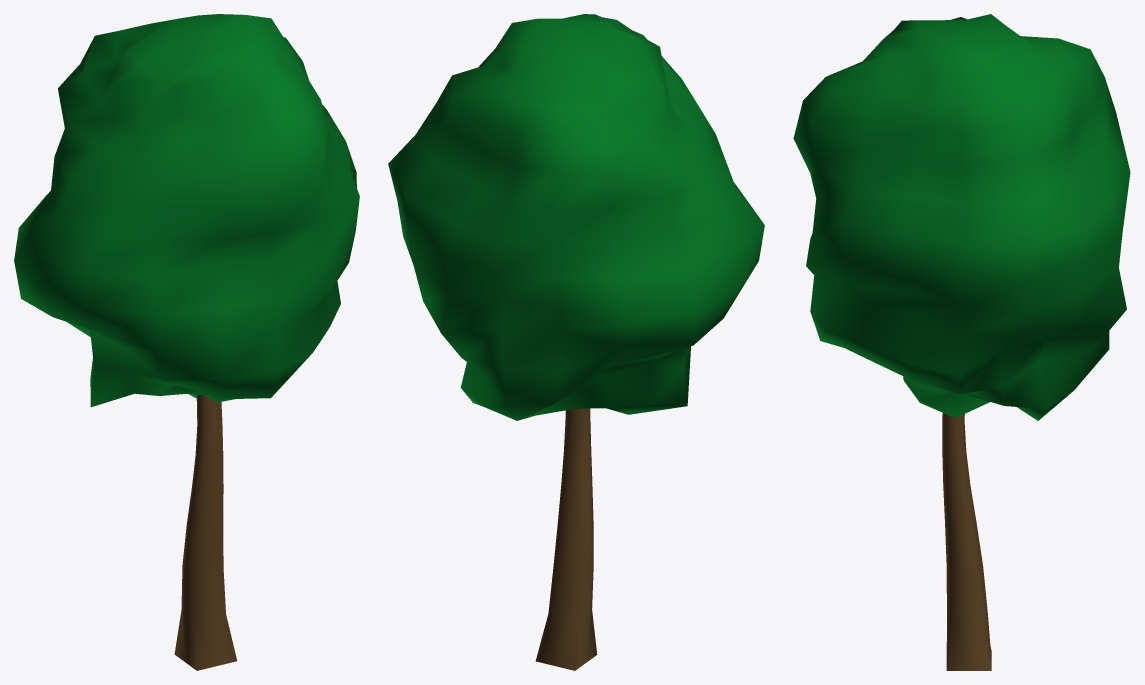
File: Tree 2.fbx
The picture shows the model from 3 angles, left to right: view 1: azimuth 30°, elevation 25°; view 2: azimuth 150°, elevation 25°; view 3: azimuth 270°, elevation 25°; orthographic projection.
Parts seen in each view (by area): view 1: pCube2, pCube1; view 2: pCube2, pCube1; view 3: pCube2, pCube1.
Boxes of the visible parts, <box> form: pCube2: <box>14,14,359,407</box>; pCube1: <box>174,394,237,670</box>; pCube2: <box>388,14,764,420</box>; pCube1: <box>535,408,597,670</box>; pCube2: <box>793,14,1130,420</box>; pCube1: <box>942,413,991,670</box>.
Bounding box in the file's own units: 8.03 × 15.16 × 7.28.
Materials: 1 (1 with a texture image).
